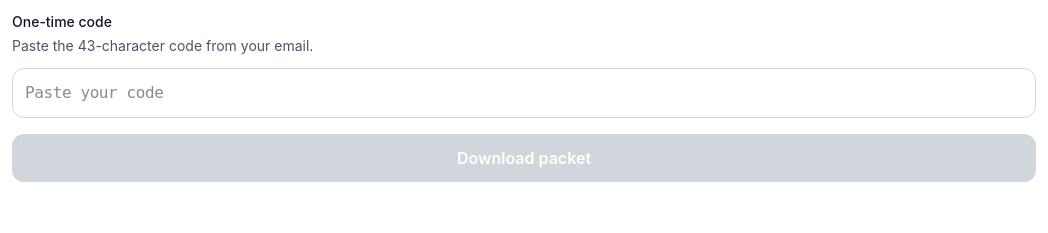
Test: refusals are coarse and the input is still cleared › shows a message for REISSUE_REQUIRED
Type "Zm9vYmFyYmF6cXV1eGNvcmdlZ3JhdWx0Z2FycGx5Z2g" into the field labelled "One-time code".
click(524, 93); type("Zm9vYmFyYmF6cXV1eGNvcmdlZ3JhdWx0Z2FycGx5Z2g")  # box [12,68,1036,118]
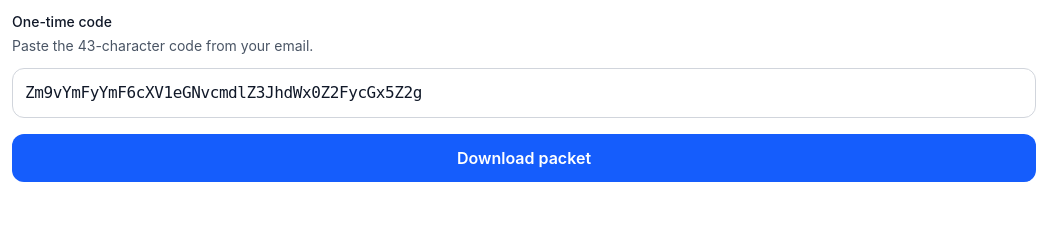
Click the button "Download packet".
click(524, 158)  # box [12,134,1036,182]
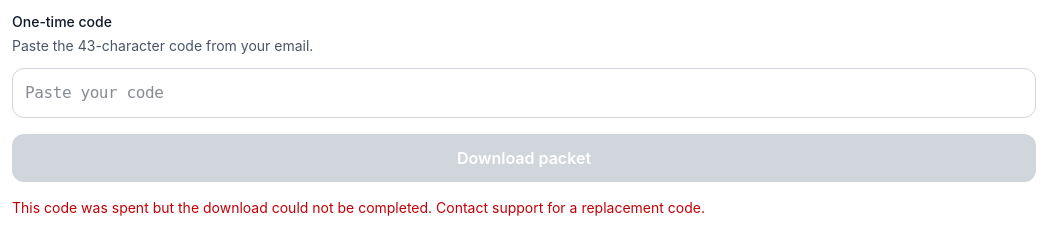
Check: the text "replacement code" is shown, box [12,199,705,216]
Check: the field labelled "One-time code" is empty, box [12,68,1036,118]
